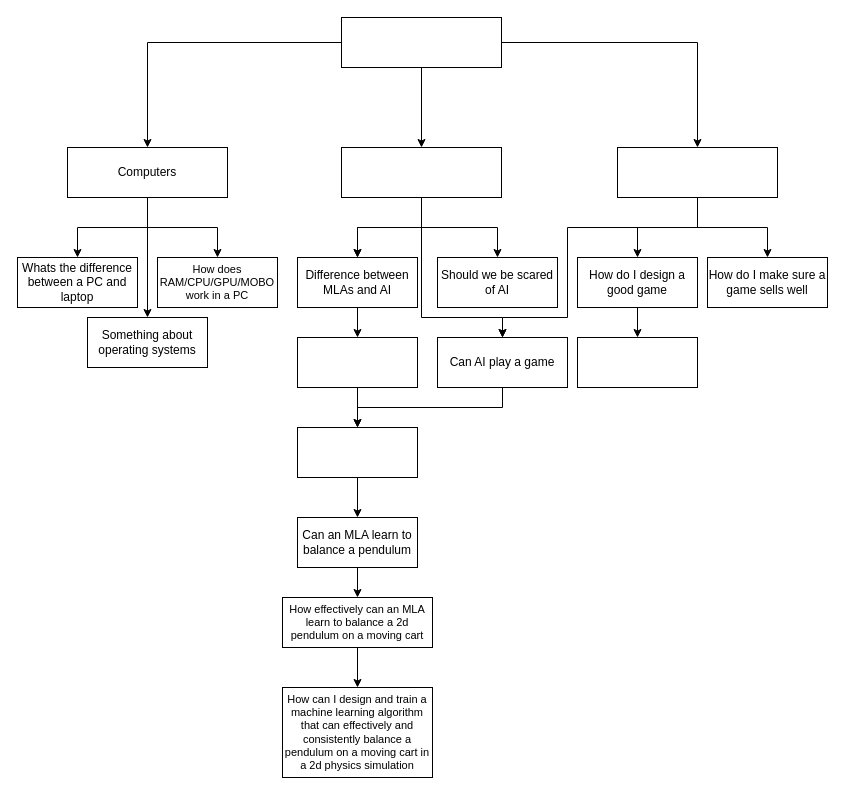
This 845x795 diagram has some shape labels left out. The shapes that lost their labels are listed below. From the top down, each one's centre as x and y in pixels, then its label:
At point (421, 42): "Computers/Programming".
At point (421, 172): "AI".
At point (697, 172): "Game dev".
At point (357, 362): "How does an MLA learn compared to AI".
At point (637, 362): "What defines a good game".
At point (357, 452): "Can an MLA to play a game".
